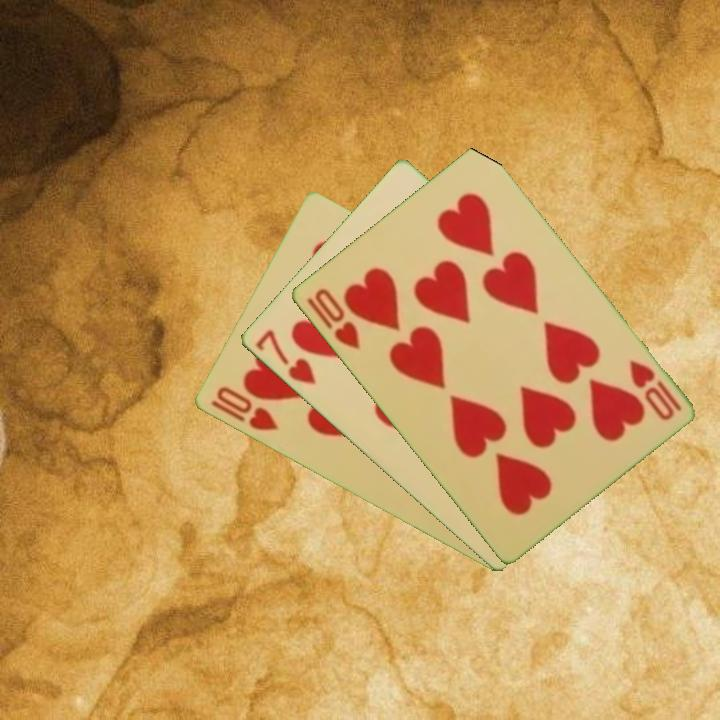10h: (302, 284, 363, 353), (625, 356, 685, 424), (206, 383, 281, 434)
7h: (251, 326, 319, 388)
